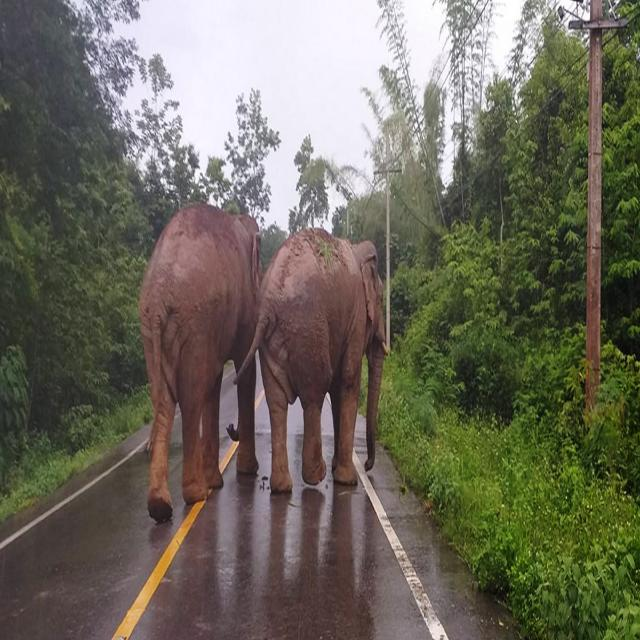Elephant: (134, 190, 263, 514), (261, 225, 390, 502)
